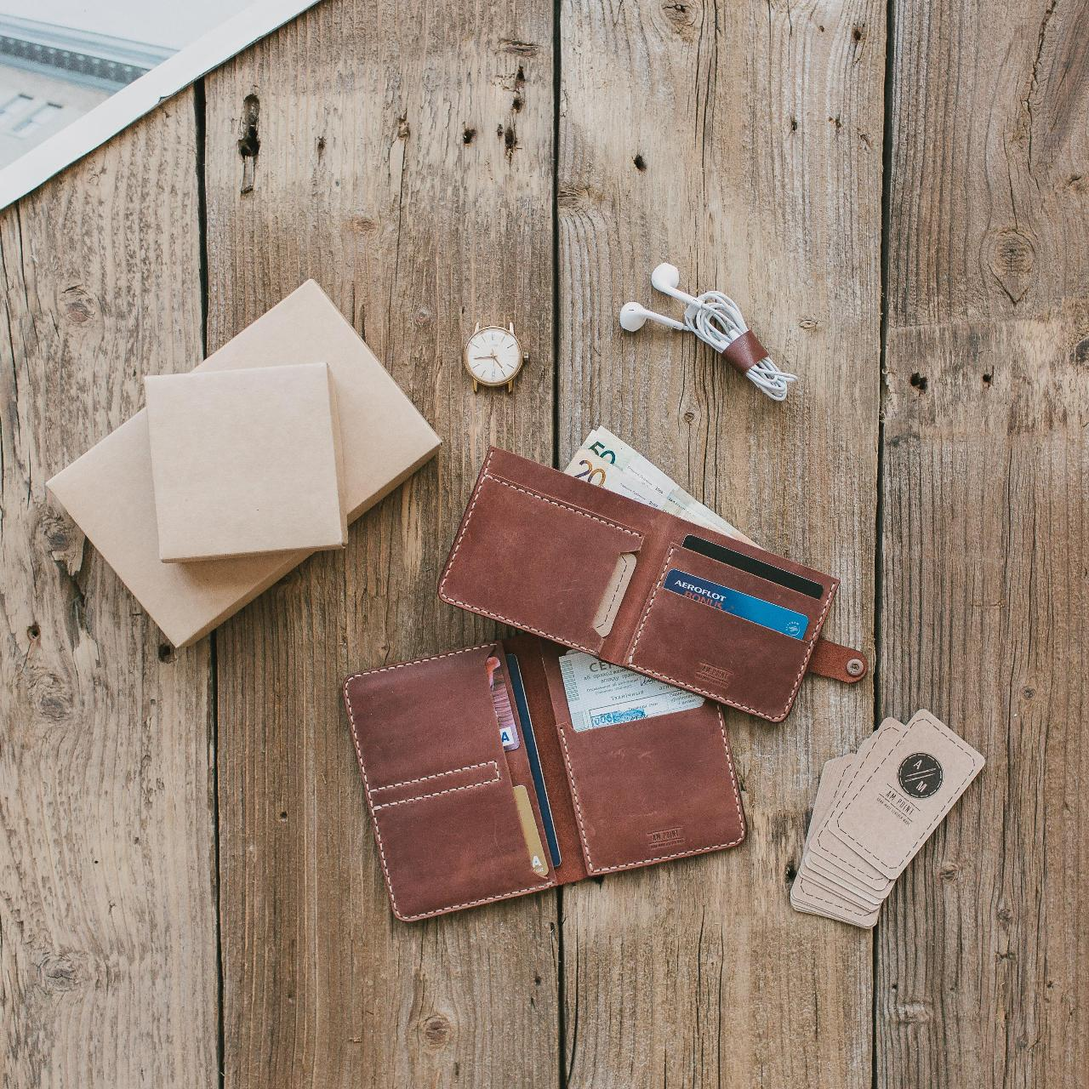wallet: (332, 621, 799, 909), (454, 418, 851, 718)
